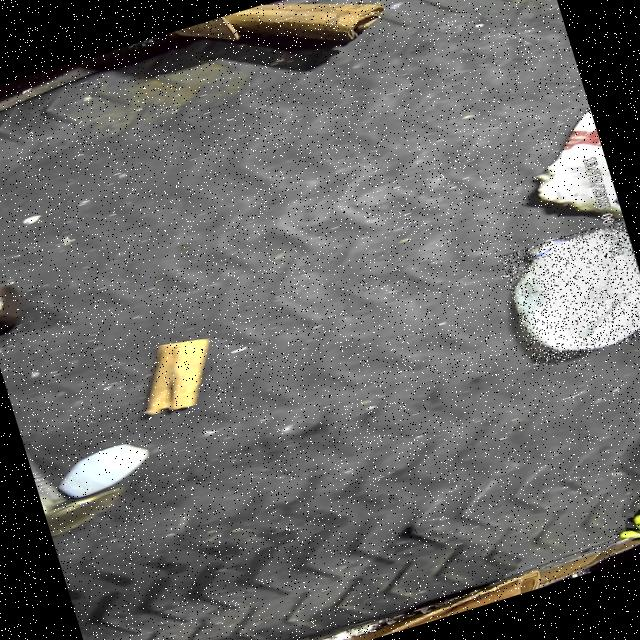milk-jug: (499, 217, 640, 369)
